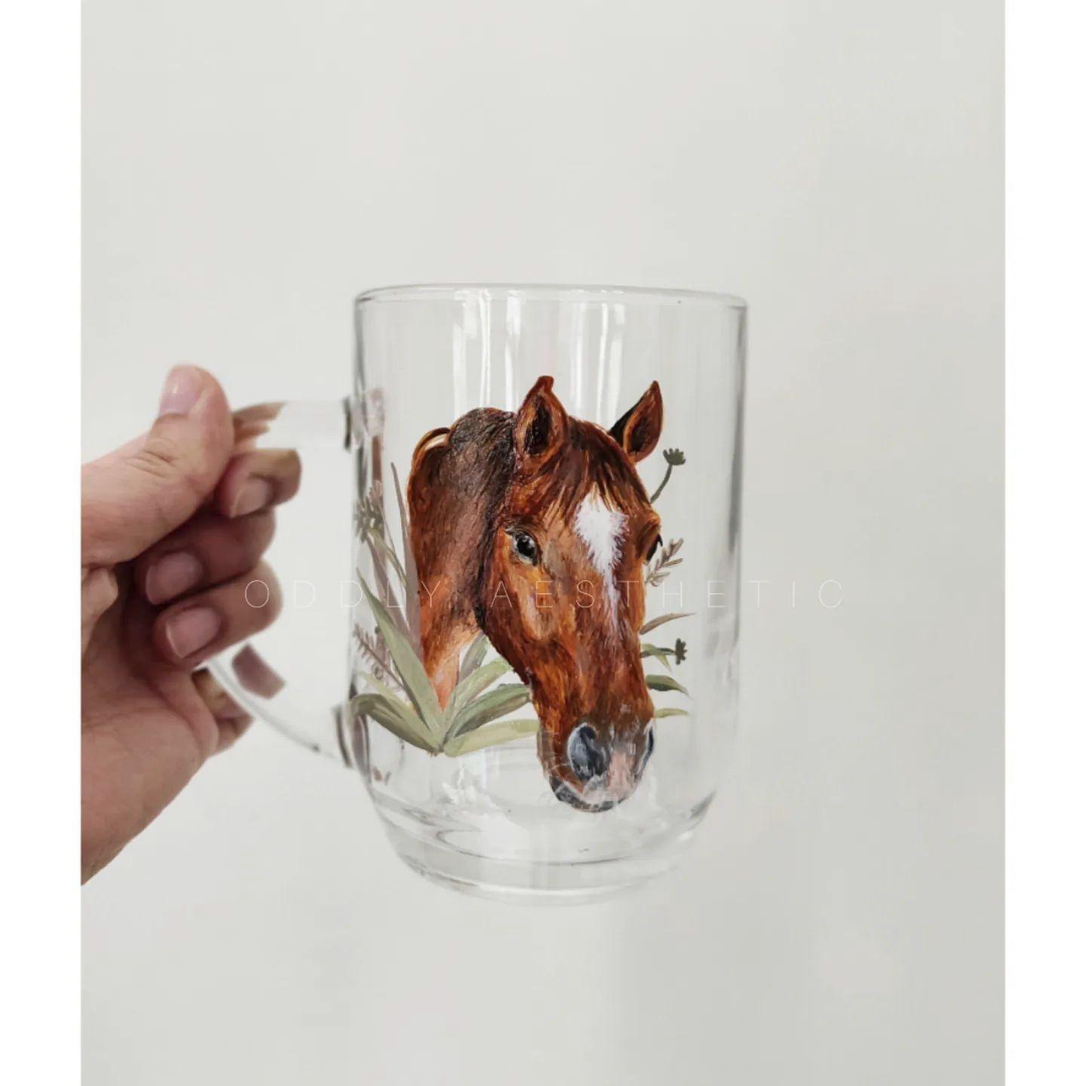glass-mug: (186, 272, 790, 915)
